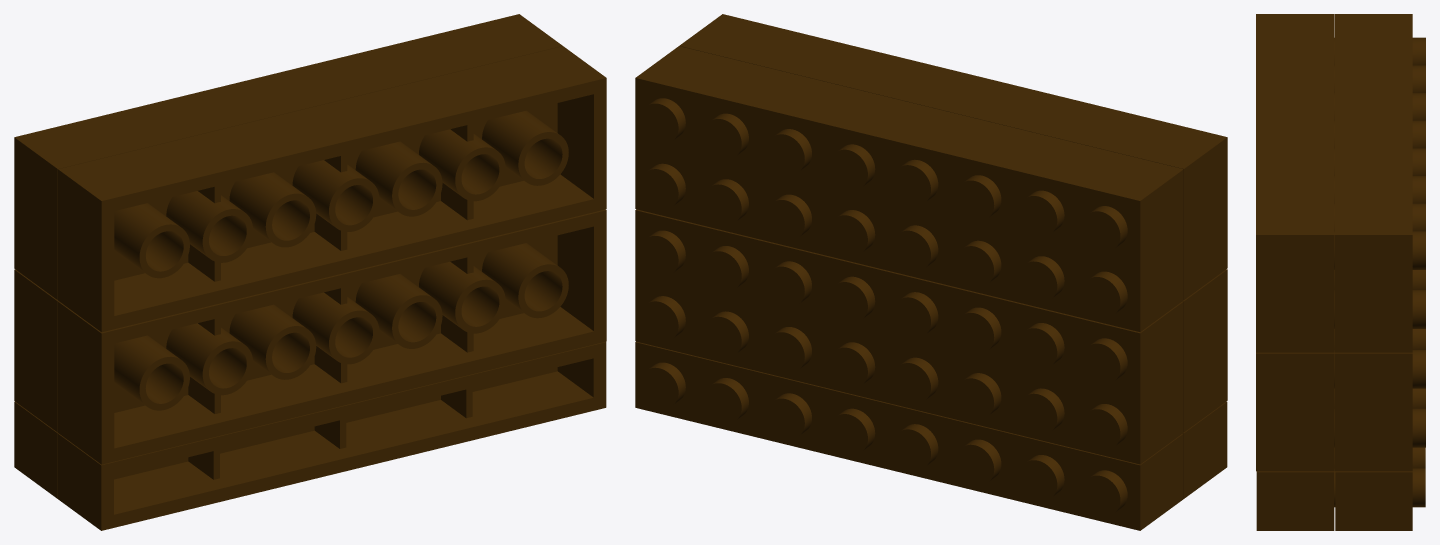
Rendered from tierritaFlores.dae.
3 views of the same model, side by side, from view 1: azimuth 30°, elevation 25°; view 2: azimuth 150°, elevation 25°; view 3: azimuth 270°, elevation 25° (orthographic). The views are drawn at different scales.
Visible parts, largest first — view 1: Inner-Node-UntitledModel_dot_io-0, Inner-Node-UntitledModel_dot_io-1, Inner-Node-UntitledModel_dot_io-2, Inner-Node-UntitledModel_dot_io-3, Inner-Node-UntitledModel_dot_io-4, Inner-Node-UntitledModel_dot_io-5; view 2: Inner-Node-UntitledModel_dot_io-3, Inner-Node-UntitledModel_dot_io-4, Inner-Node-UntitledModel_dot_io-5, Inner-Node-UntitledModel_dot_io-0, Inner-Node-UntitledModel_dot_io-1, Inner-Node-UntitledModel_dot_io-2; view 3: Inner-Node-UntitledModel_dot_io-3, Inner-Node-UntitledModel_dot_io-0, Inner-Node-UntitledModel_dot_io-4, Inner-Node-UntitledModel_dot_io-1, Inner-Node-UntitledModel_dot_io-5, Inner-Node-UntitledModel_dot_io-2.
Part boxes in pixels (box(x1,y1,x2,y2)): Inner-Node-UntitledModel_dot_io-0: box(58, 46, 606, 332); Inner-Node-UntitledModel_dot_io-1: box(58, 209, 606, 464); Inner-Node-UntitledModel_dot_io-2: box(58, 341, 606, 530); Inner-Node-UntitledModel_dot_io-3: box(14, 14, 562, 299); Inner-Node-UntitledModel_dot_io-4: box(14, 269, 58, 432); Inner-Node-UntitledModel_dot_io-5: box(14, 401, 58, 498); Inner-Node-UntitledModel_dot_io-3: box(635, 46, 1183, 331); Inner-Node-UntitledModel_dot_io-4: box(635, 209, 1183, 464); Inner-Node-UntitledModel_dot_io-5: box(635, 341, 1183, 530); Inner-Node-UntitledModel_dot_io-0: box(679, 14, 1227, 299); Inner-Node-UntitledModel_dot_io-1: box(1183, 269, 1227, 432); Inner-Node-UntitledModel_dot_io-2: box(1183, 401, 1227, 498); Inner-Node-UntitledModel_dot_io-3: box(1334, 14, 1425, 352); Inner-Node-UntitledModel_dot_io-0: box(1256, 14, 1334, 352); Inner-Node-UntitledModel_dot_io-4: box(1334, 329, 1425, 471); Inner-Node-UntitledModel_dot_io-1: box(1256, 329, 1334, 471); Inner-Node-UntitledModel_dot_io-5: box(1335, 447, 1425, 530); Inner-Node-UntitledModel_dot_io-2: box(1256, 448, 1335, 530).
Bounding box in the file's own units: 160 × 99.73 × 51.82.
